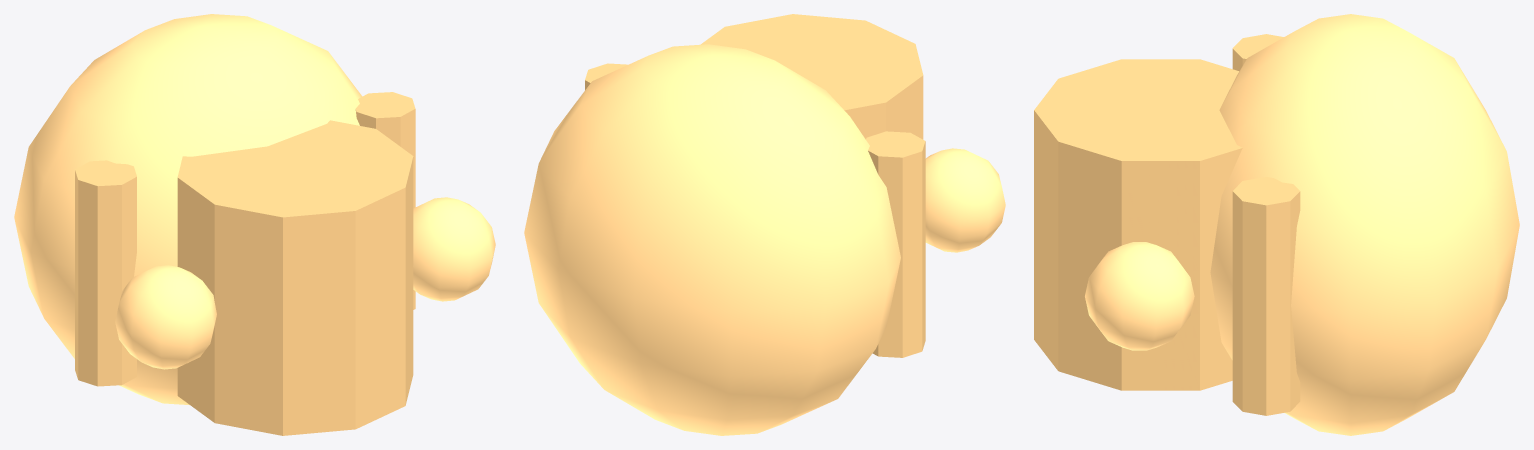
Rendered from monster_treant.glb.
3 views of the same model, side by side, from view 1: azimuth 30°, elevation 25°; view 2: azimuth 150°, elevation 25°; view 3: azimuth 270°, elevation 25° (orthographic). The views are drawn at different scales.
Visible parts, largest first — view 1: monster_treant_root; view 2: monster_treant_root; view 3: monster_treant_root.
Part boxes in pixels (bbox=[...]): monster_treant_root: bbox=[14, 14, 495, 435]; monster_treant_root: bbox=[524, 14, 1005, 435]; monster_treant_root: bbox=[1034, 14, 1519, 435].
Bounding box in the file's own units: 3.35 × 3.2 × 3.68.
